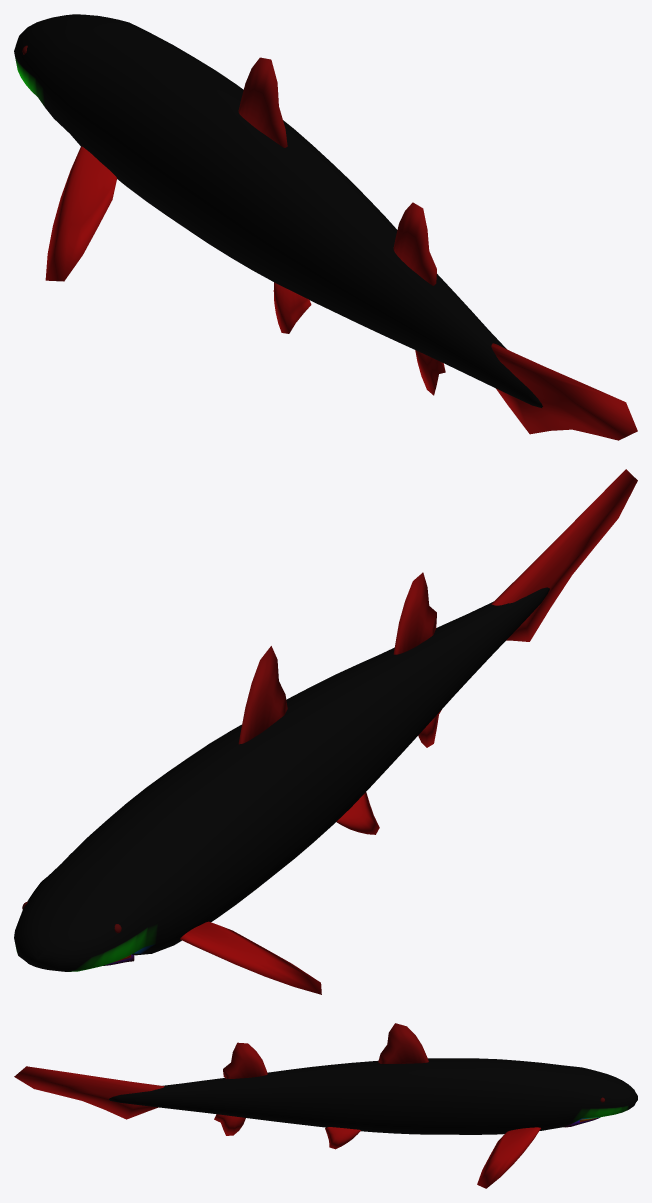
Rendered from leopard_shark_lo.glb.
The picture shows the model from 3 angles, top to bottom: view 1: azimuth 30°, elevation 25°; view 2: azimuth 150°, elevation 25°; view 3: azimuth 270°, elevation 25°; orthographic projection. The views are drawn at different scales.
Parts seen in each view (by area): view 1: leopard_shark_lo; view 2: leopard_shark_lo; view 3: leopard_shark_lo.
Part boxes in pixels (x1,y1,x2,y2): leopard_shark_lo: (14,14,637,440); leopard_shark_lo: (14,469,637,994); leopard_shark_lo: (14,1023,637,1188).
Size of the model in its own units: 0.3973 by 0.3457 by 1.49.
